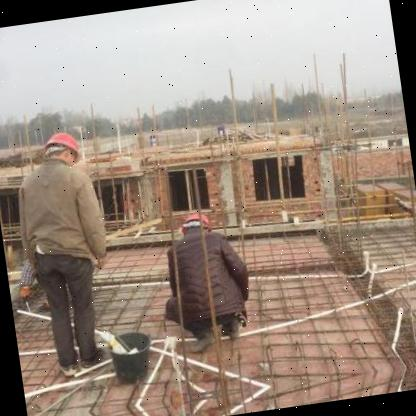capacete: (35, 126, 84, 163), (176, 205, 214, 237)
